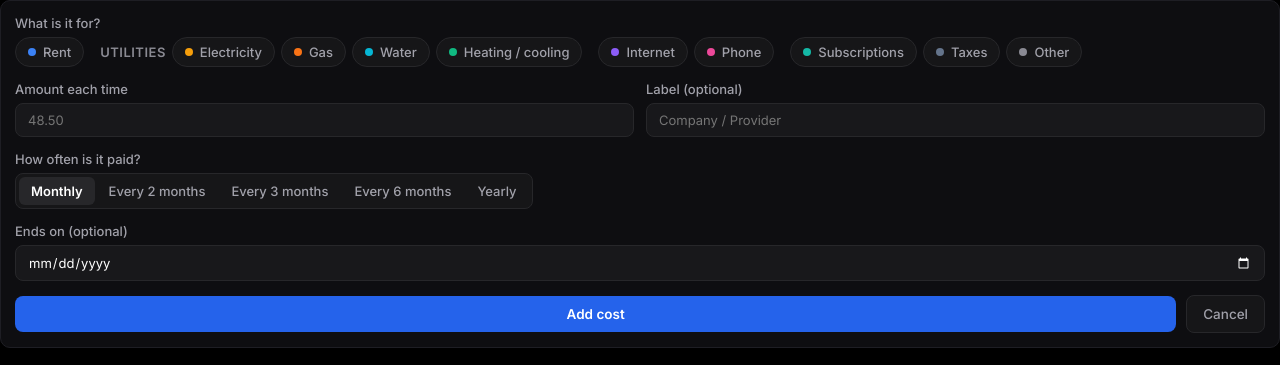
Scenario: FixedCostEditor › accepts only numbers in the amount
Type "4x8.5y0" into the field labelled "Amount each time" at (324, 120), box 15,103 -> 634,137
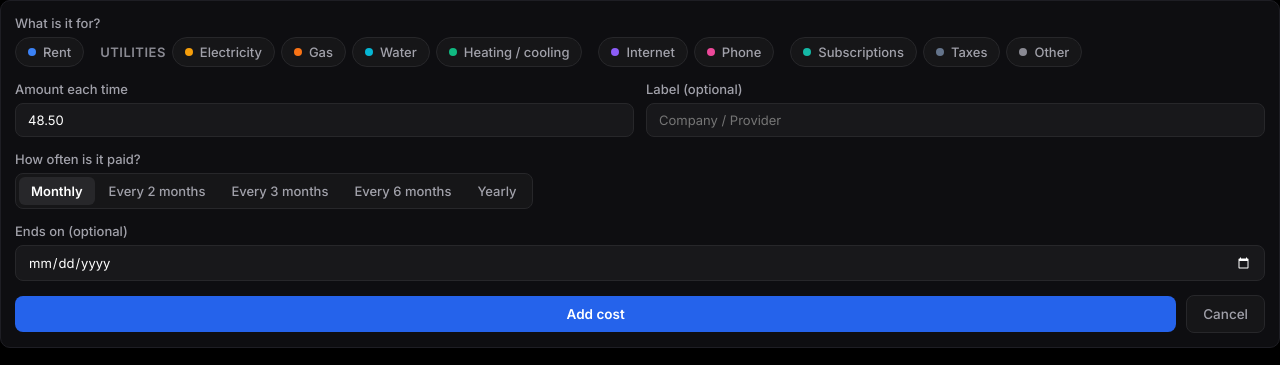
expect the field labelled "Amount each time" holds "48.50": met, box 15,103 -> 634,137
